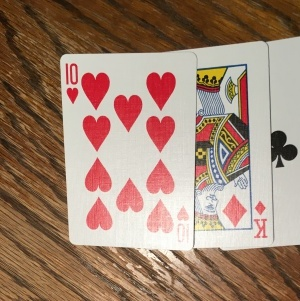card: (56, 51, 197, 250), (192, 41, 276, 246)
